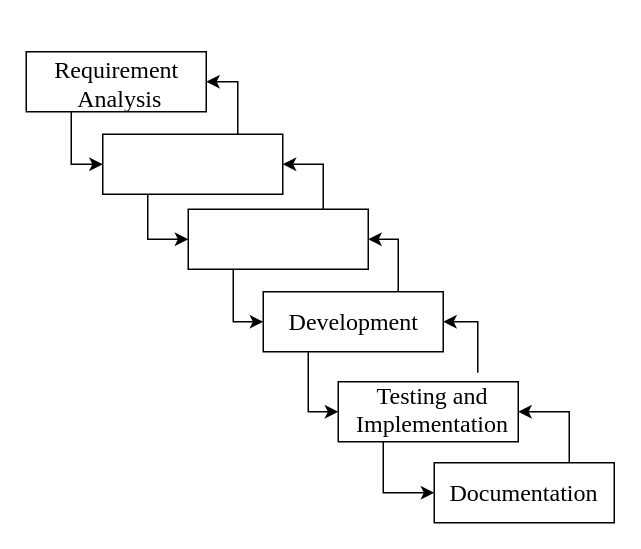
The diagram is 641 pixels wide and 549 high, and some of its shapes have lost their labels. The shapes that lost their labels are listed below. From the top down, each one's centre as x and y in pixels, then its label:
At pixel 192 163: "Feasibility Study".
At pixel 277 238: "Design".
